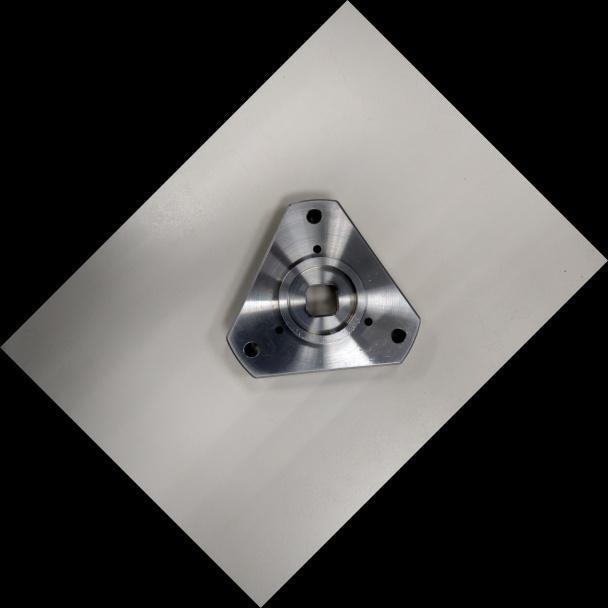hole: (300, 202, 328, 230), (237, 335, 265, 363), (384, 322, 412, 349), (270, 321, 288, 339), (360, 313, 376, 330), (309, 241, 325, 257)
